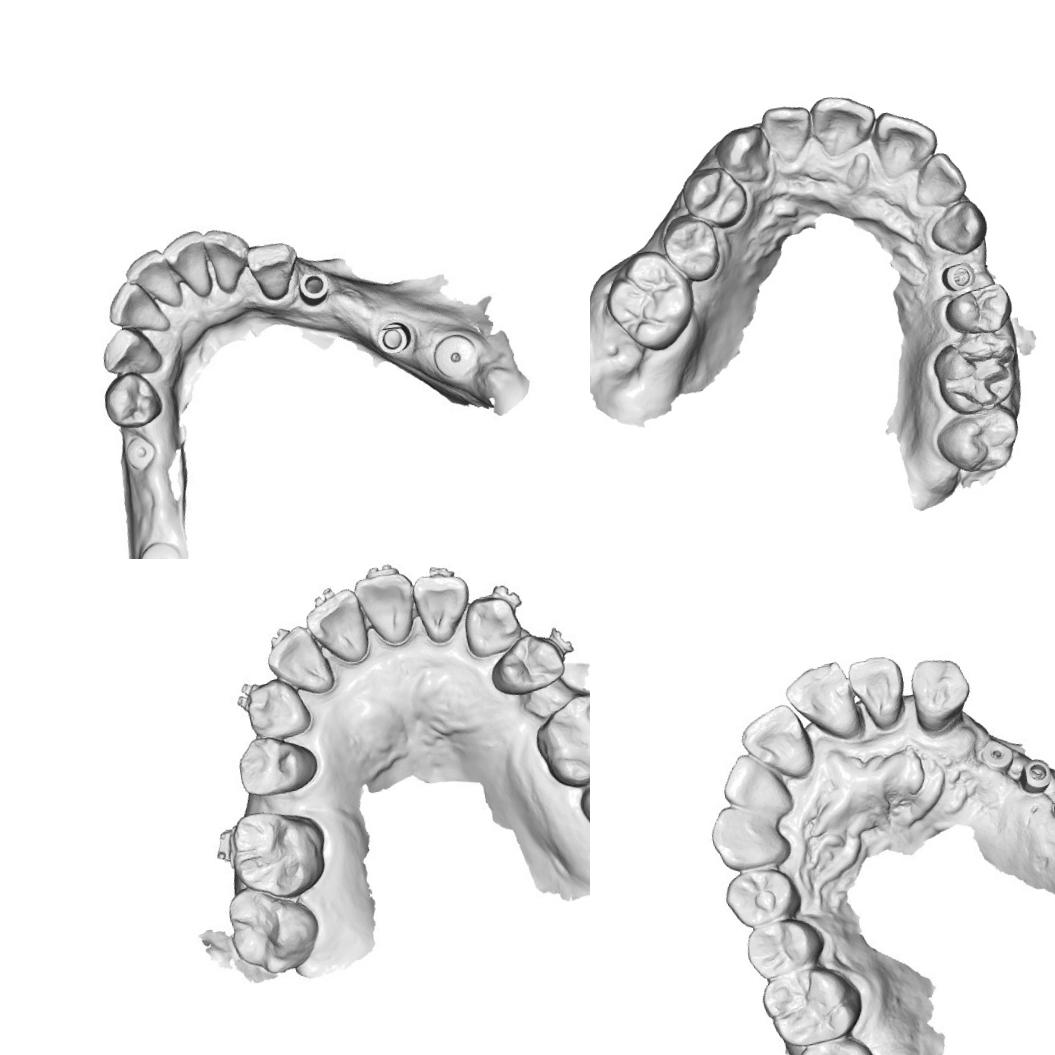canine: (702, 796, 797, 876), (234, 670, 318, 748), (903, 652, 976, 734), (458, 592, 526, 662), (710, 122, 774, 190), (240, 236, 302, 306), (924, 197, 992, 260), (97, 320, 166, 382)
implant: (430, 328, 483, 385), (374, 310, 420, 364), (970, 732, 1018, 779), (292, 266, 338, 310), (117, 433, 164, 474), (938, 258, 980, 294), (131, 536, 196, 559), (1019, 756, 1055, 792)
incisor: (776, 657, 868, 751), (734, 698, 820, 788), (351, 567, 424, 652), (868, 103, 944, 184), (261, 621, 337, 702), (299, 586, 371, 671), (843, 646, 911, 736), (716, 746, 796, 820), (804, 88, 882, 162), (408, 569, 478, 648), (124, 244, 183, 314), (160, 227, 213, 300), (201, 225, 254, 298), (908, 148, 970, 210), (758, 102, 816, 168), (106, 280, 166, 336)
inlay: (932, 336, 1022, 416)
molar: (222, 800, 336, 906), (598, 244, 701, 358), (222, 878, 329, 983), (756, 962, 868, 1052), (932, 404, 1024, 480), (527, 686, 590, 795), (792, 1029, 885, 1055)
premolar: (231, 728, 324, 804), (482, 628, 571, 701), (740, 912, 825, 982), (720, 862, 804, 931), (678, 162, 752, 236), (658, 210, 725, 288), (940, 280, 1016, 340), (98, 369, 164, 430)
